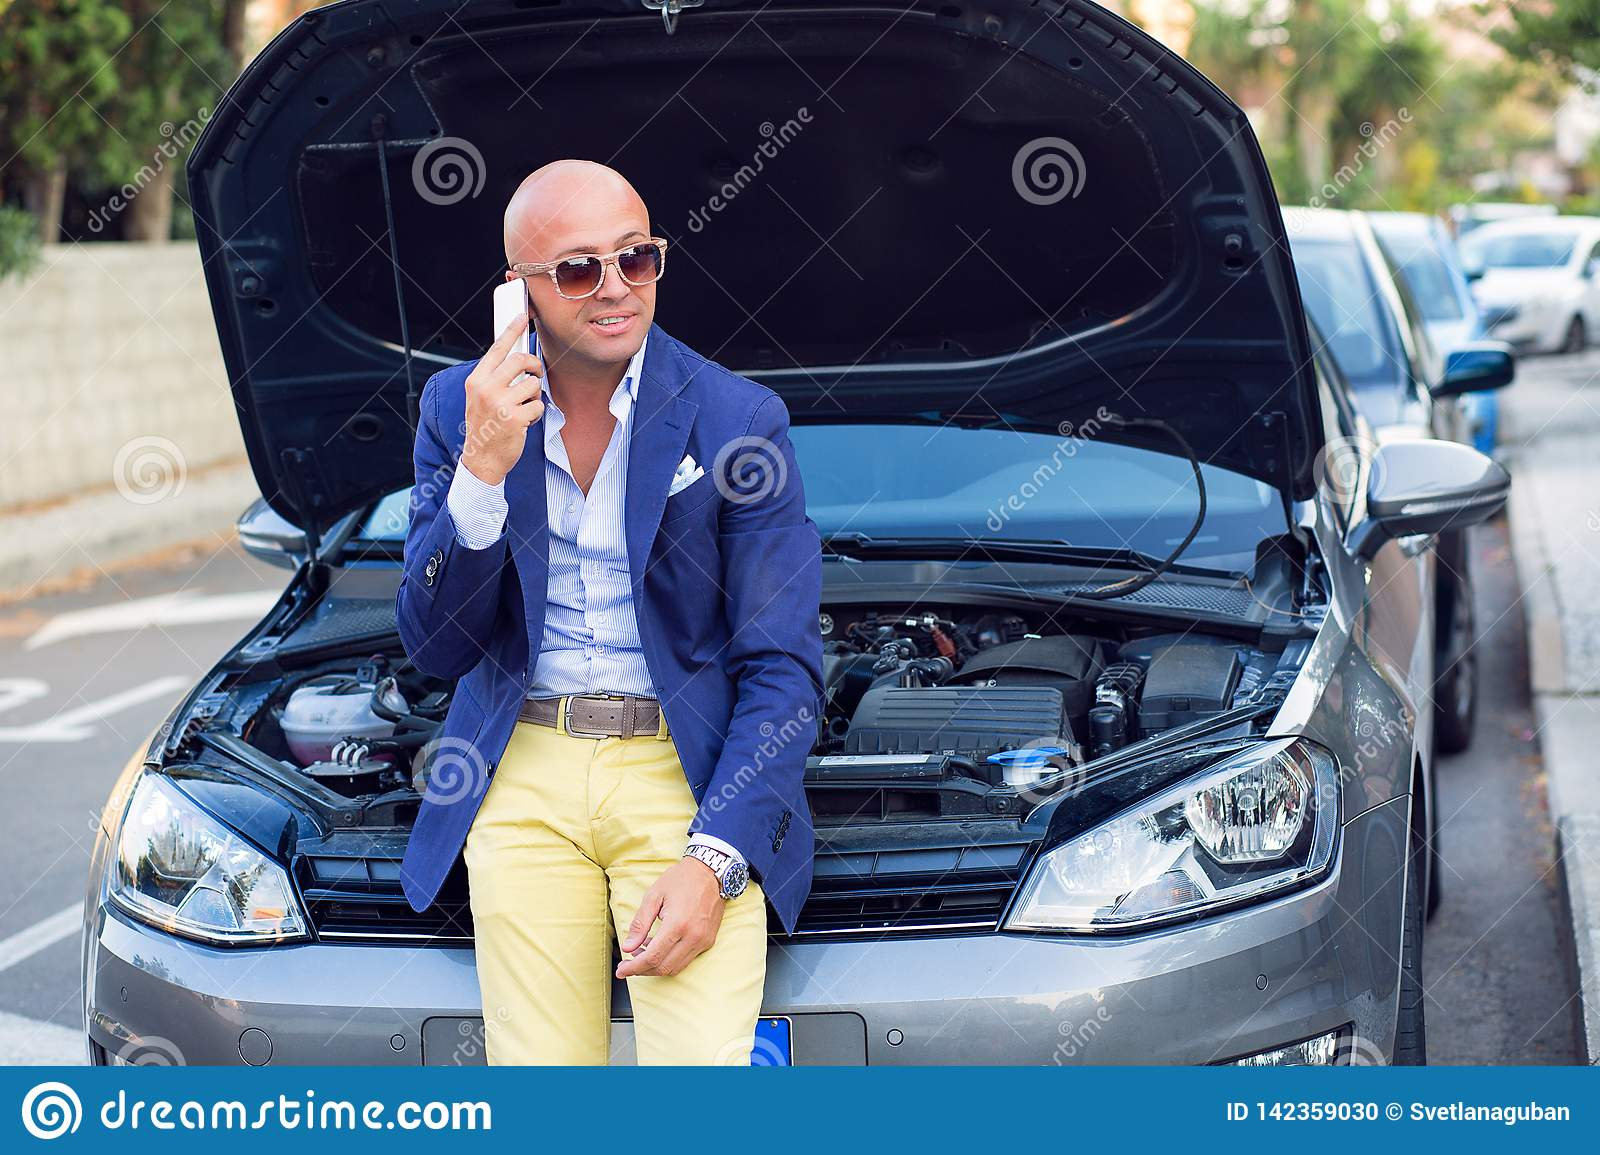phone: (492, 279, 533, 401)
talk: (462, 229, 657, 473)
